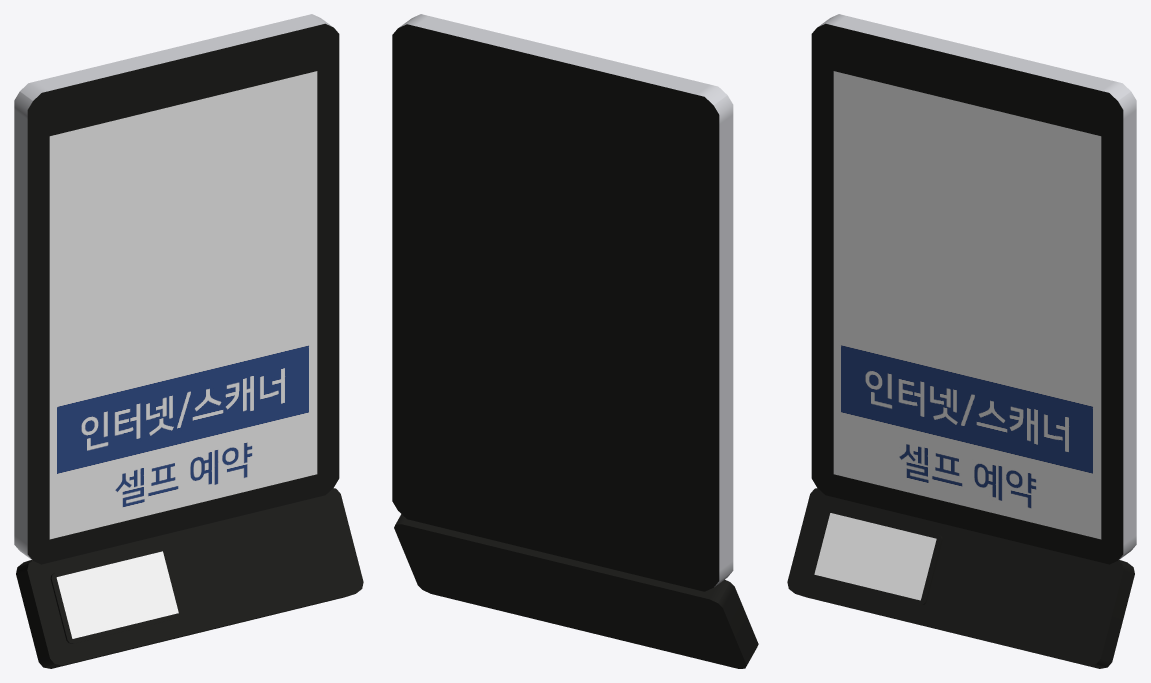
File: multimedia_kiosk.fbx
3 renders of one model, left to right at view 1: azimuth 30°, elevation 25°; view 2: azimuth 150°, elevation 25°; view 3: azimuth 330°, elevation 25°, orthographic. The views are drawn at different scales.
Visible parts, largest first — view 1: multimedia_kiosk; view 2: multimedia_kiosk; view 3: multimedia_kiosk.
Boxes of the visible parts, x1,y1,x2,y2 form: multimedia_kiosk: [14, 14, 363, 668]; multimedia_kiosk: [392, 14, 758, 668]; multimedia_kiosk: [787, 14, 1136, 668].
Bounding box in the file's own units: 0.00645 × 0.0111 × 0.00139.
Materials: 1 (1 with a texture image).
